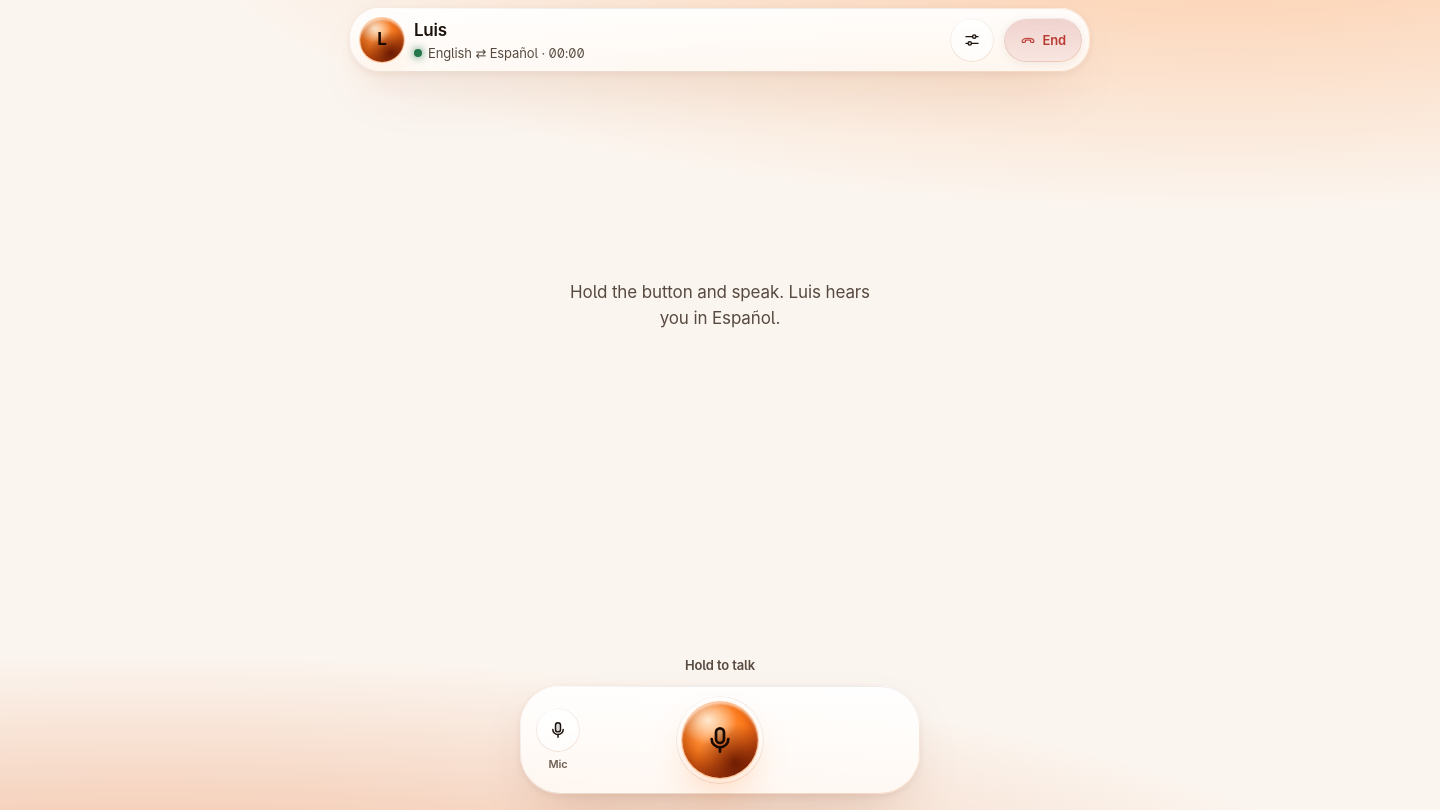
Test: CallRoom view over the engine › device lost: notice + mic shown off; the mic button is the way back (UI recovery path)
This screenshot has width=1440, height=810.
Later steps or results of the test are not shown.
Press the mouse on the button named "Push to talk" at (720, 740), box [676,696,764,784]
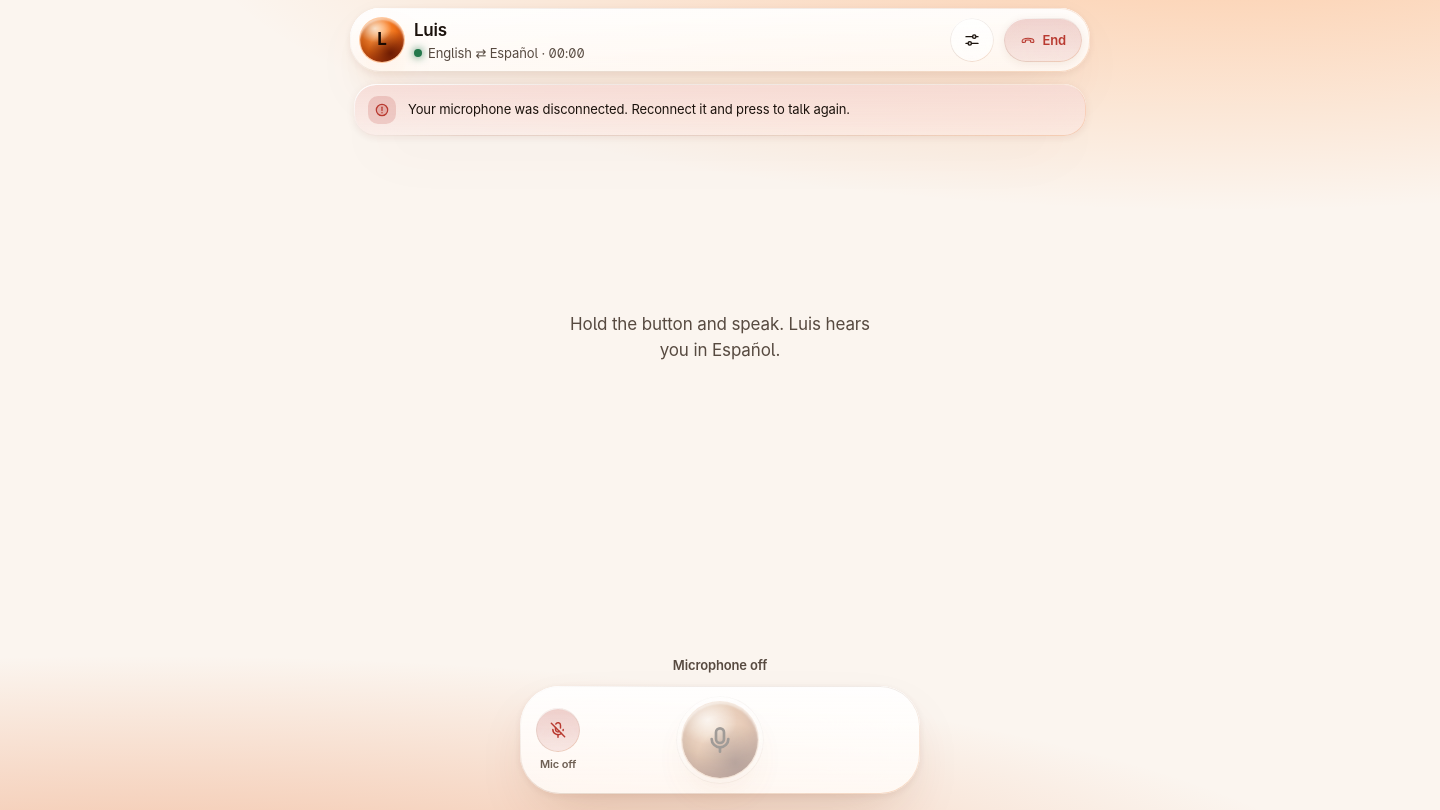
Now the text "microphone was disconnected" is shown, box [408,101,850,117]
Now the button named "Push to talk" is disabled, box [676,696,764,784]
Click the button named "Turn microphone on" at (558, 730), box [536,708,580,752]
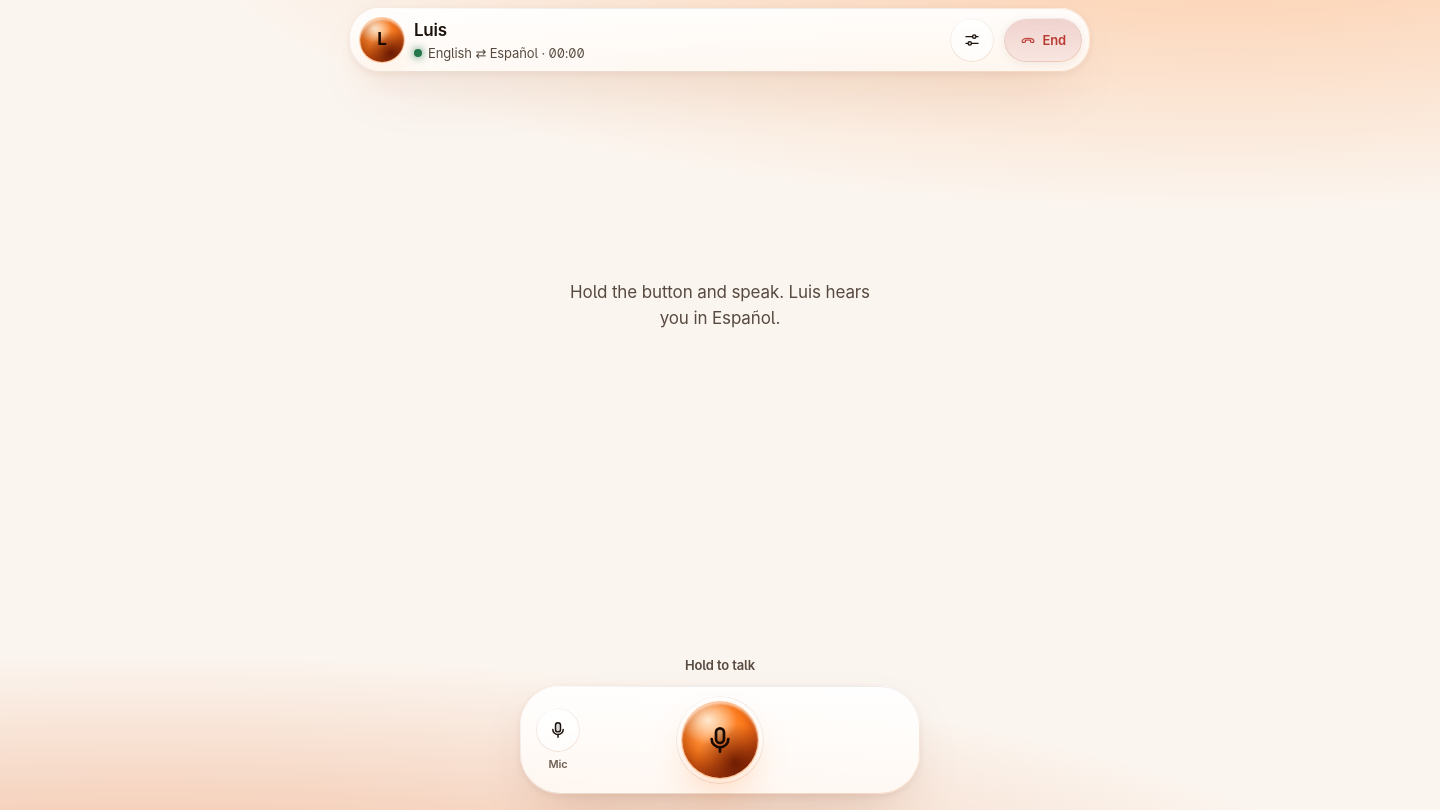
Now the button named "Push to talk" is enabled, box [676,696,764,784]
